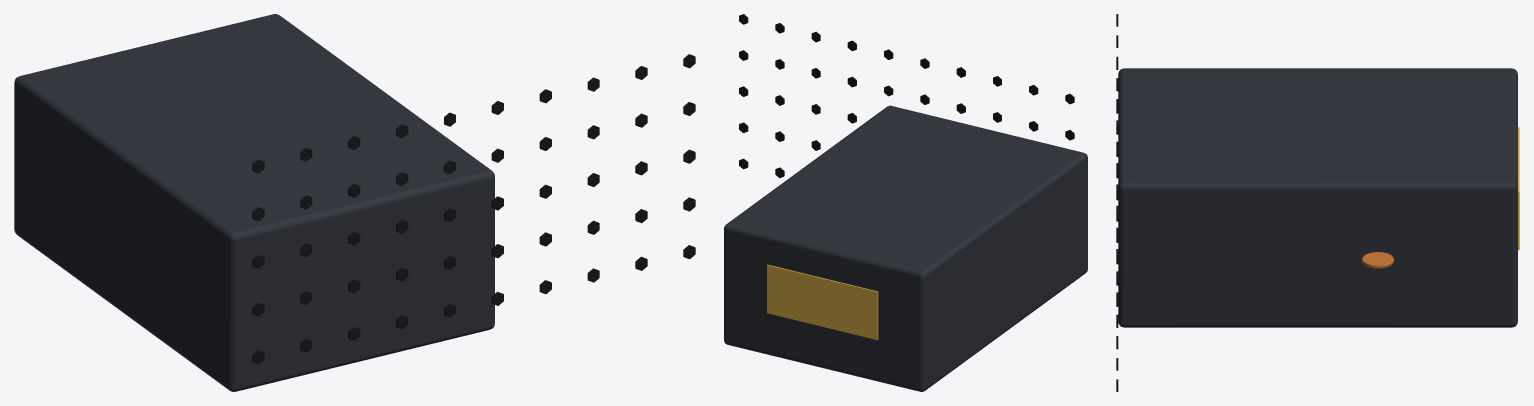
3 views of the same model, side by side, from view 1: azimuth 30°, elevation 25°; view 2: azimuth 150°, elevation 25°; view 3: azimuth 270°, elevation 25° (orthographic). The views are drawn at different scales.
Parts seen in each view (by area): view 1: part_011; view 2: part_011; view 3: part_011.
Boxes of the visible parts, left/top/right/bottom form: part_011: left=14, top=14, right=695, bottom=391; part_011: left=724, top=14, right=1087, bottom=391; part_011: left=1116, top=14, right=1519, bottom=391.
Size of the model in its own units: 2.44 by 1.15 by 2.02.
